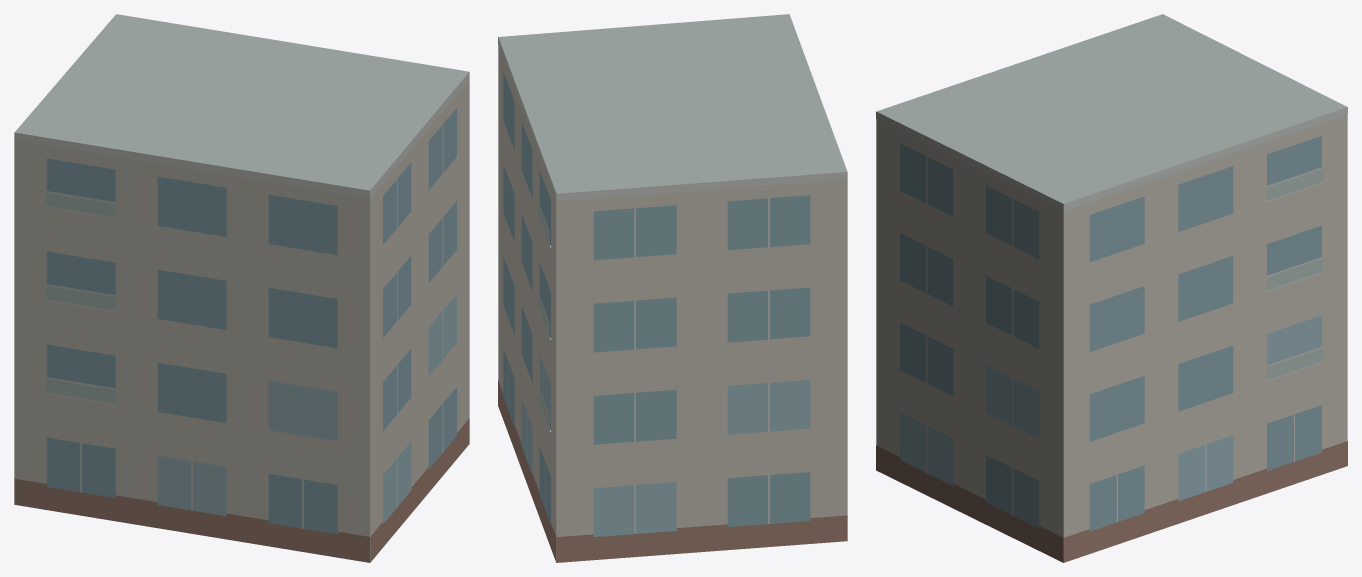
The model's file is survey-upis-33047603.glb.
3 views of the same model, side by side, from view 1: azimuth 30°, elevation 25°; view 2: azimuth 150°, elevation 25°; view 3: azimuth 270°, elevation 25° (orthographic). The views are drawn at different scales.
Visible parts, largest first — view 1: survey-upis-33047603.tmp; view 2: survey-upis-33047603.tmp; view 3: survey-upis-33047603.tmp.
Boxes of the visible parts, x1,y1,x2,y2 form: survey-upis-33047603.tmp: (14, 14, 469, 562); survey-upis-33047603.tmp: (498, 14, 847, 562); survey-upis-33047603.tmp: (876, 14, 1347, 562).
Bounding box in the file's own units: 13.46 × 11.85 × 14.12.
